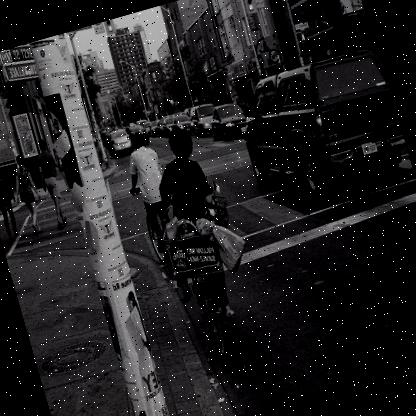Car: (230, 46, 413, 212), (137, 107, 195, 144), (204, 98, 249, 142), (187, 101, 221, 138), (103, 126, 135, 157)
